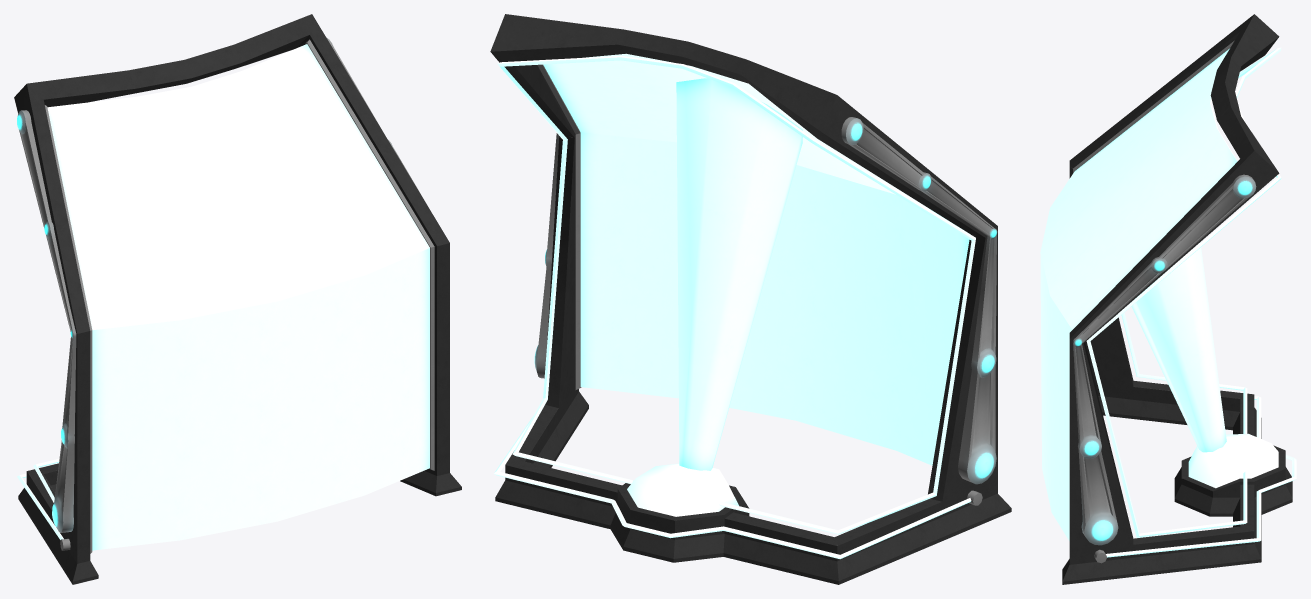
The model's file is env_Kiosk2_000.FBX.
3 views of the same model, side by side, from view 1: azimuth 30°, elevation 25°; view 2: azimuth 150°, elevation 25°; view 3: azimuth 270°, elevation 25° (orthographic). The views are drawn at different scales.
Parts seen in each view (by area): view 1: bb_env_kiosk2_00; view 2: bb_env_kiosk2_00; view 3: bb_env_kiosk2_00.
Part boxes in pixels (x1,y1,x2,y2): bb_env_kiosk2_00: (14, 14, 461, 584); bb_env_kiosk2_00: (490, 14, 1011, 584); bb_env_kiosk2_00: (1040, 14, 1296, 584).
Size of the model in its own units: 0.9525 by 0.9755 by 0.5528.
Materials: 1 (1 with a texture image).
